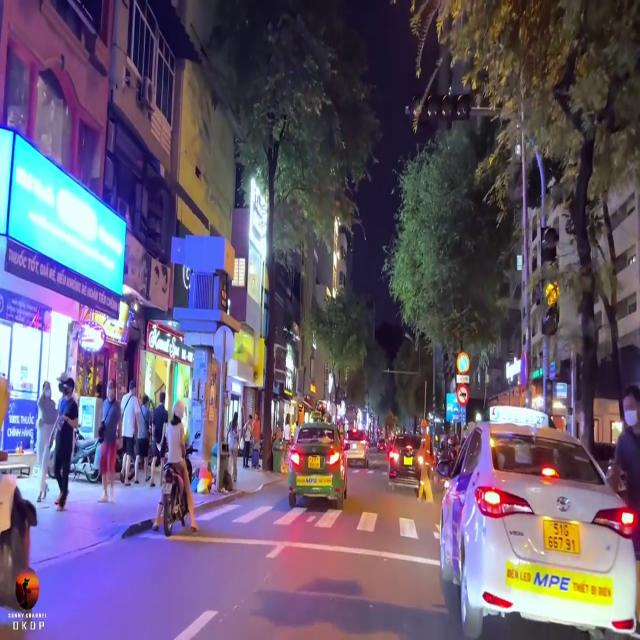bien_vang: (541, 515, 583, 557), (306, 452, 322, 472)
